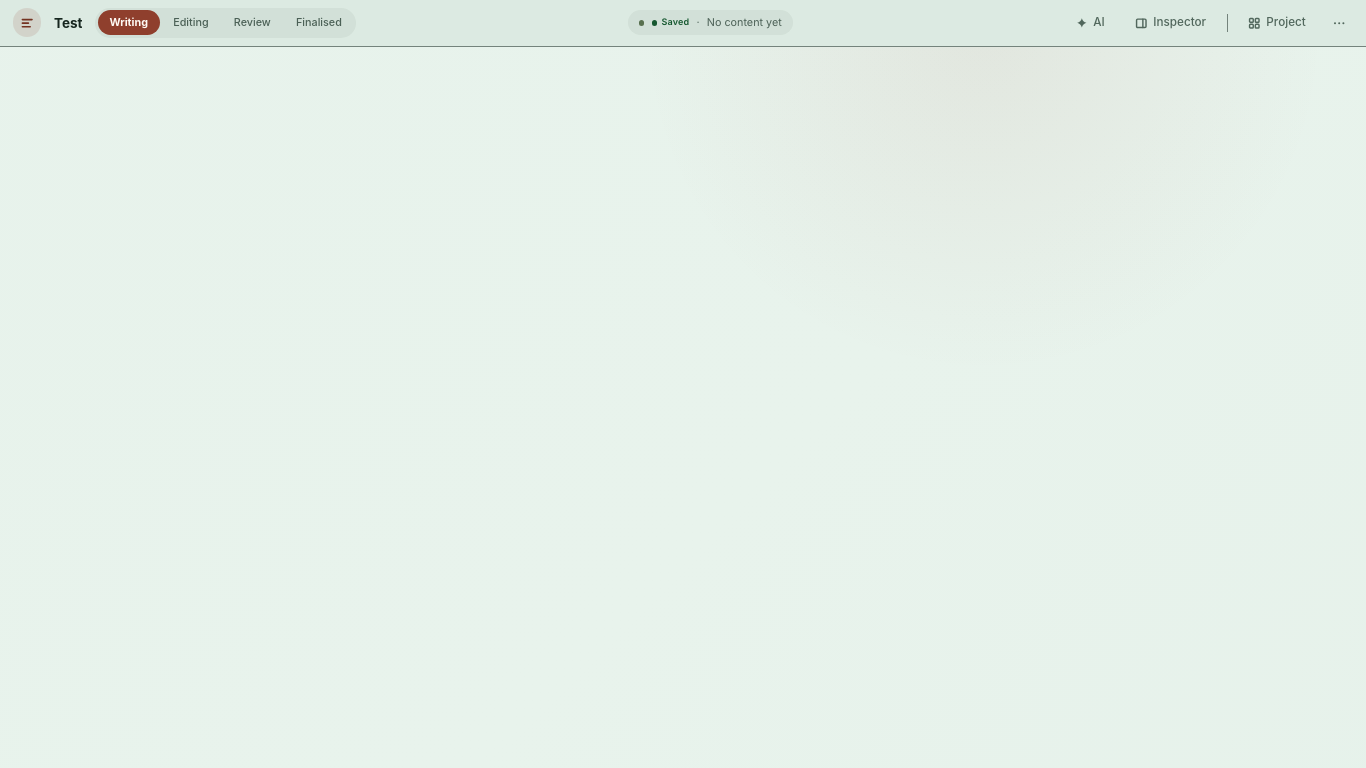
Test: ManuscriptTopbar Finish menu › offers Finalise draft for novel-type projects
Click the button named "More".
click(1339, 23)  # box [1325, 8, 1353, 37]
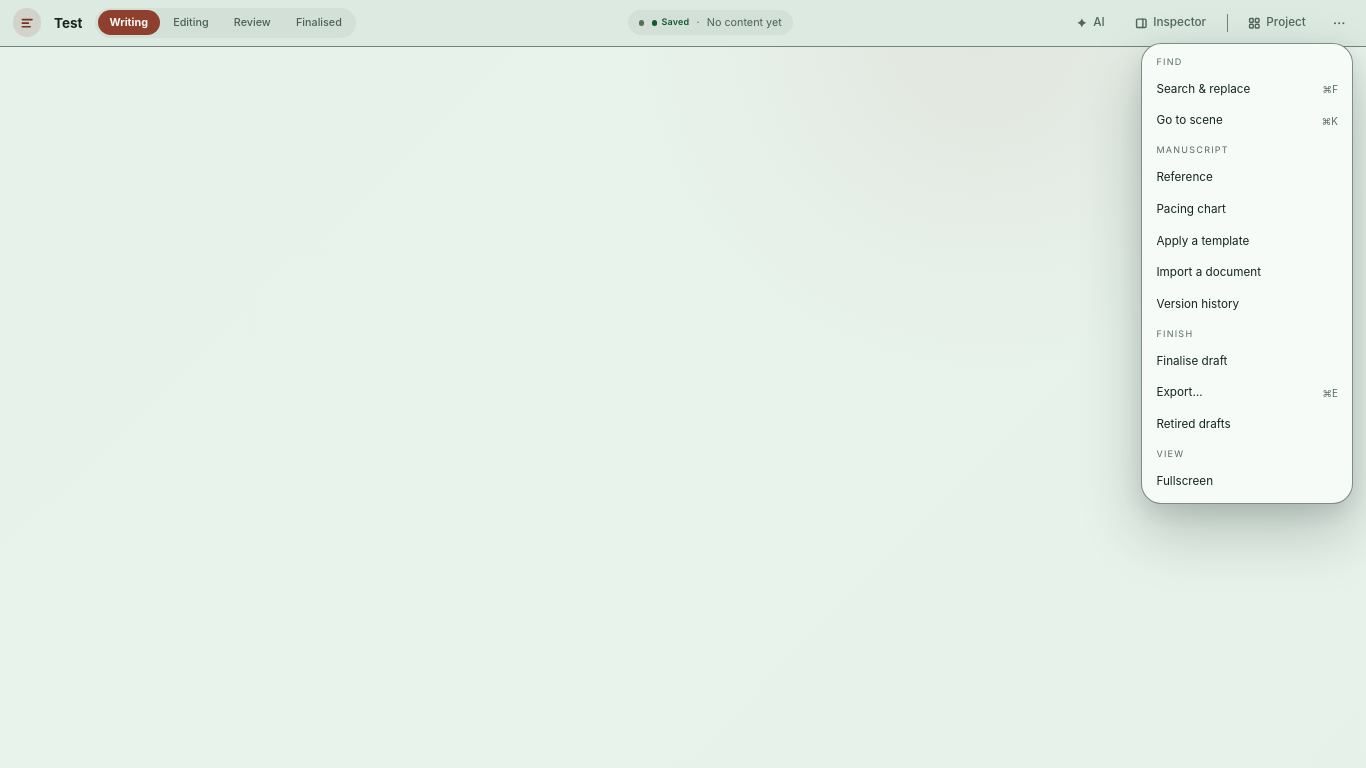
Now the button "Finalise draft" is shown, box [1147, 345, 1347, 377]
